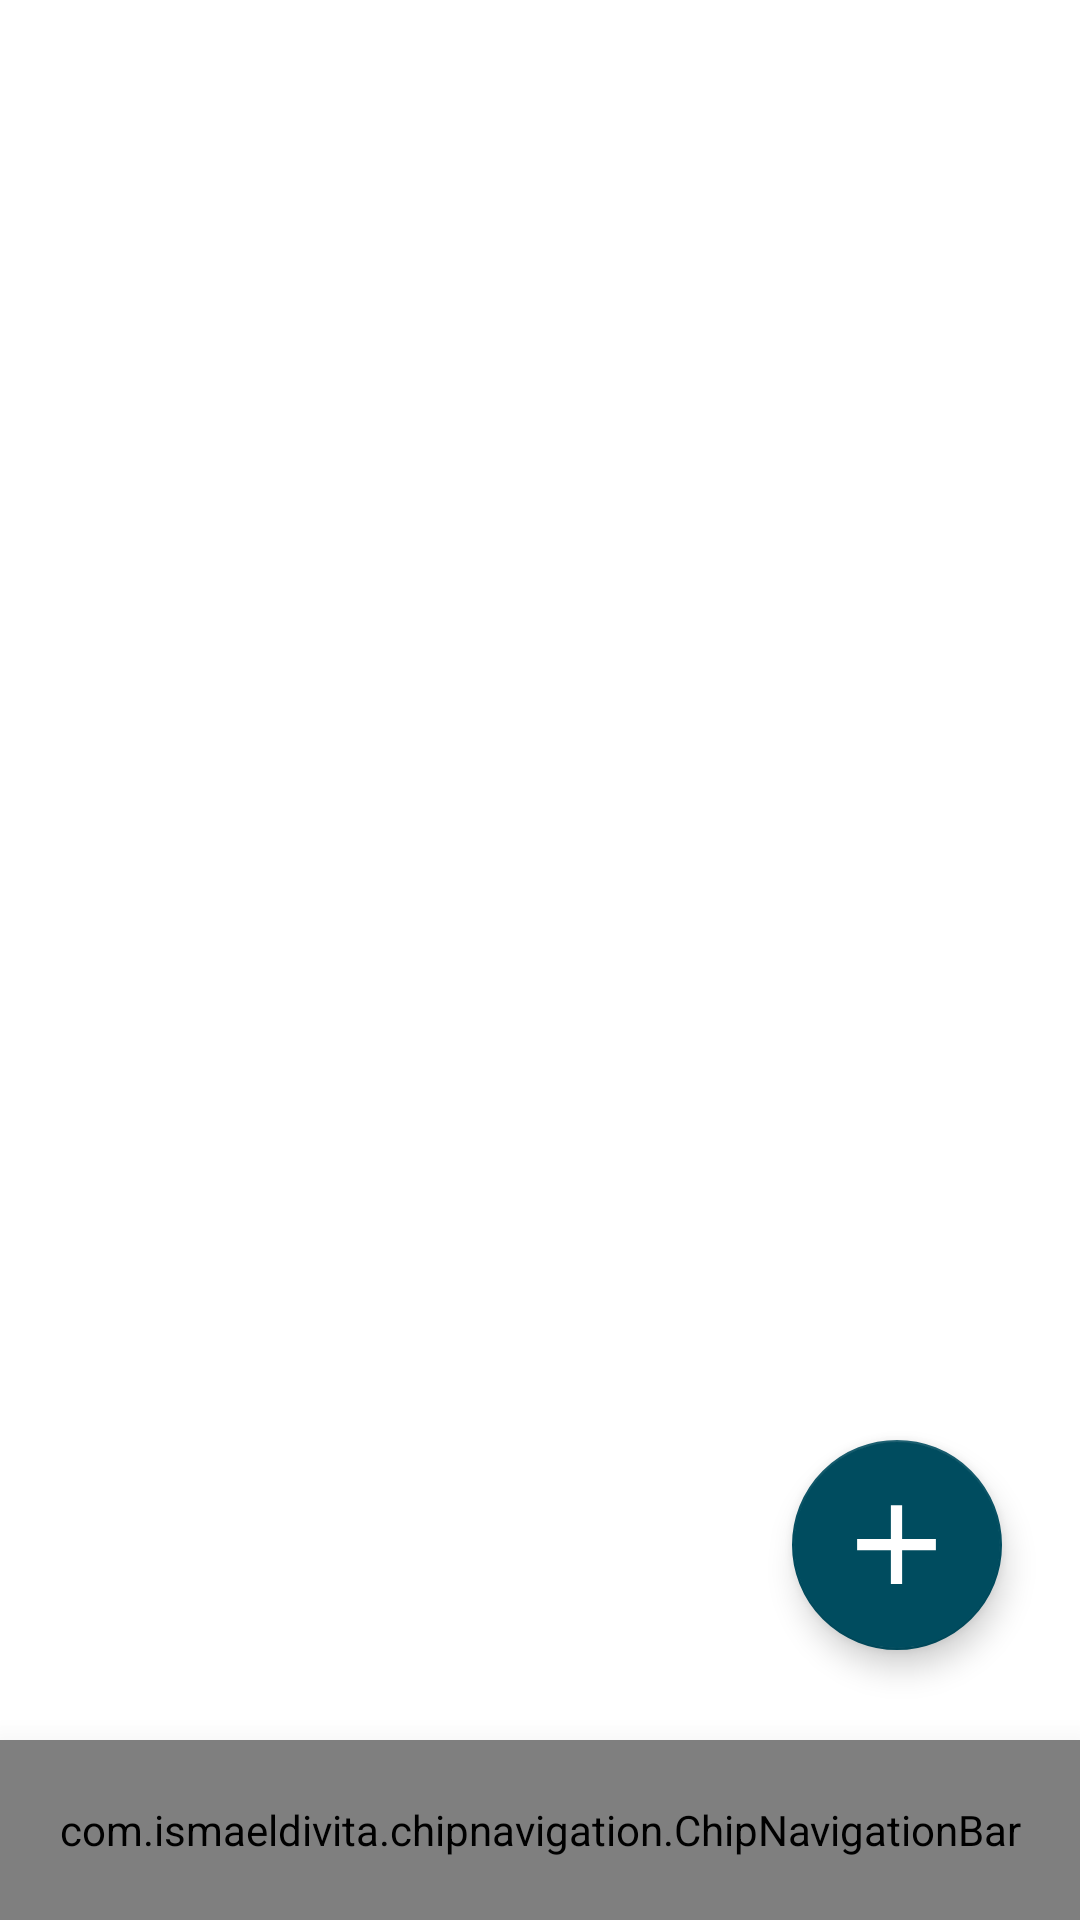

Screen size 1080px×1920px. Icon name, then its center in pixels as (x,y):
add: (897,1545)
